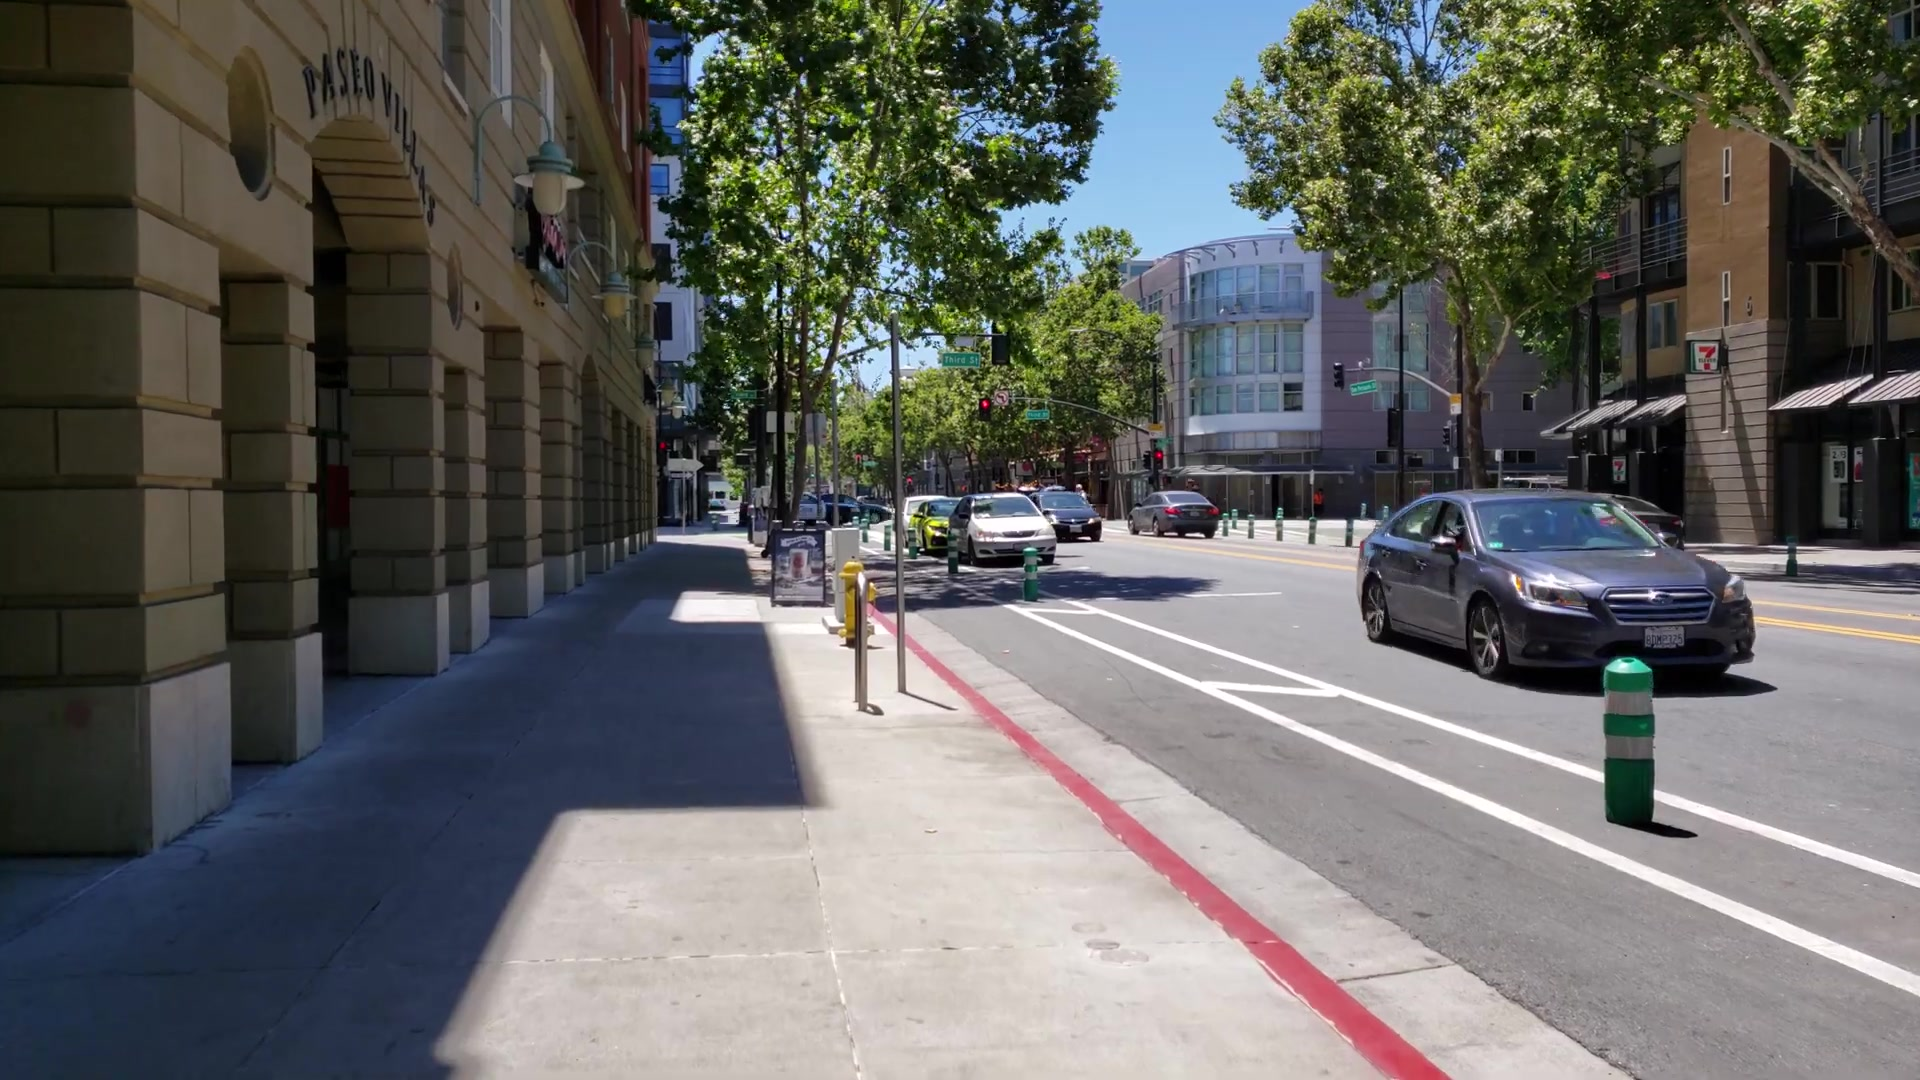vehicle: (1356, 488, 1754, 676), (949, 491, 1056, 563), (1131, 491, 1218, 535)
